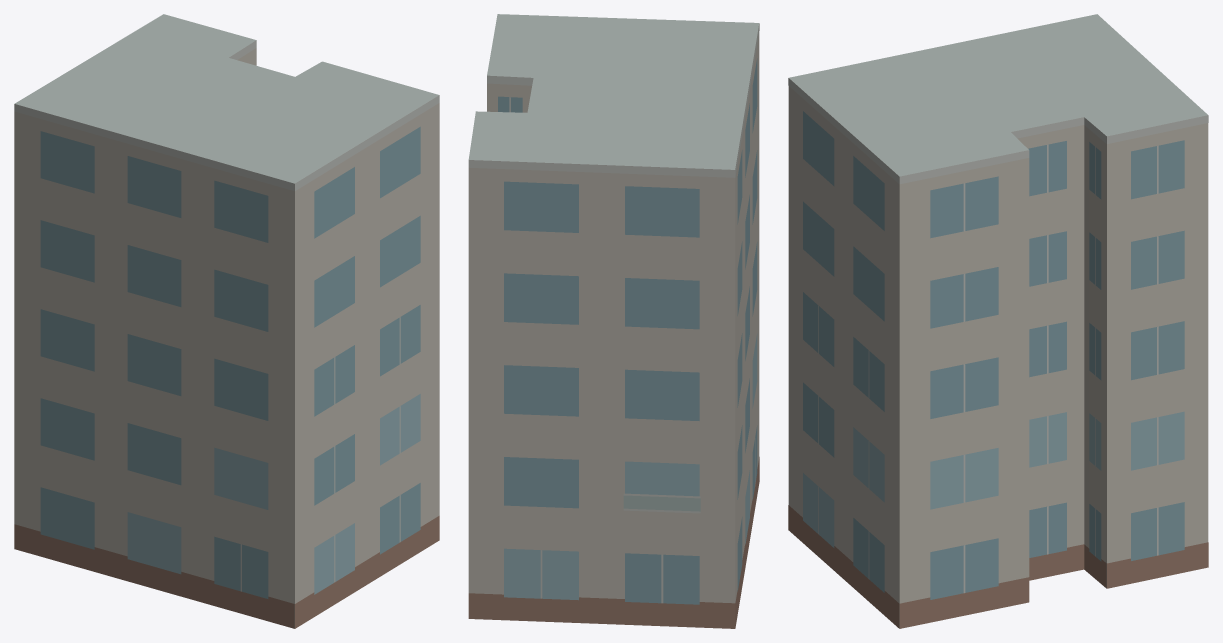
Rendered from survey-upis-32972914.glb.
The picture shows the model from 3 angles, left to right: view 1: azimuth 30°, elevation 25°; view 2: azimuth 150°, elevation 25°; view 3: azimuth 270°, elevation 25°; orthographic projection. The views are drawn at different scales.
Parts seen in each view (by area): view 1: survey-upis-32972914.tmp; view 2: survey-upis-32972914.tmp; view 3: survey-upis-32972914.tmp.
Boxes of the visible parts, x1,y1,x2,y2 form: survey-upis-32972914.tmp: (14,14,439,628); survey-upis-32972914.tmp: (468,14,759,628); survey-upis-32972914.tmp: (788,14,1208,628).
Size of the model in its own units: 10.96 by 14.2 by 11.96.
